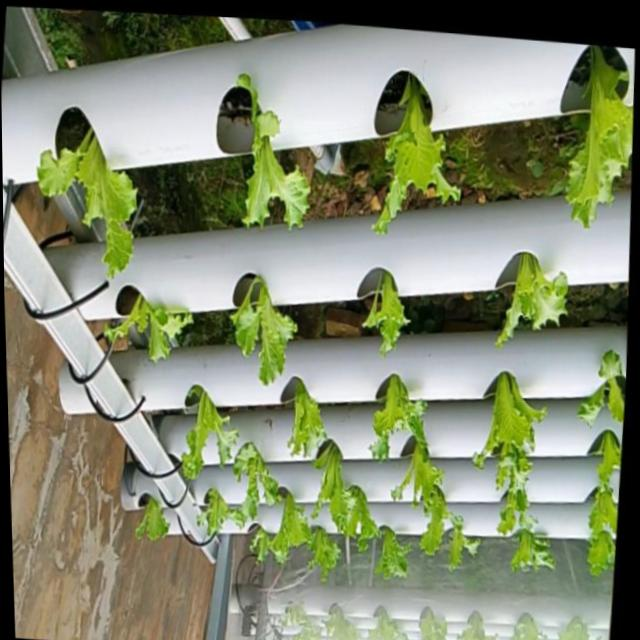Baby: (27, 129, 129, 279), (368, 73, 455, 235), (561, 44, 633, 226), (229, 74, 304, 228), (224, 278, 291, 388), (386, 435, 456, 532), (492, 251, 562, 347), (92, 299, 185, 367), (306, 438, 363, 536), (174, 387, 232, 482), (363, 500, 422, 584), (477, 370, 536, 453), (245, 491, 306, 565), (227, 442, 277, 525), (572, 347, 624, 424), (358, 272, 404, 357), (487, 425, 529, 515), (367, 373, 409, 459), (282, 378, 321, 458), (190, 488, 239, 543), (583, 482, 614, 564), (435, 510, 476, 568), (506, 526, 550, 569), (302, 525, 336, 580), (128, 502, 164, 545)
